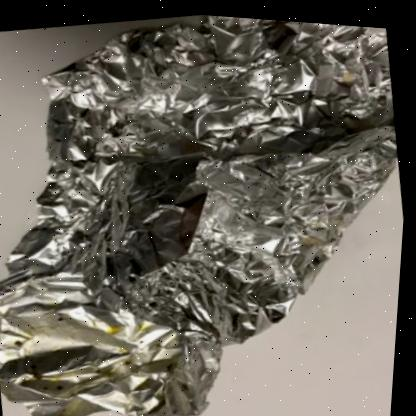Metal: (0, 12, 399, 416)
